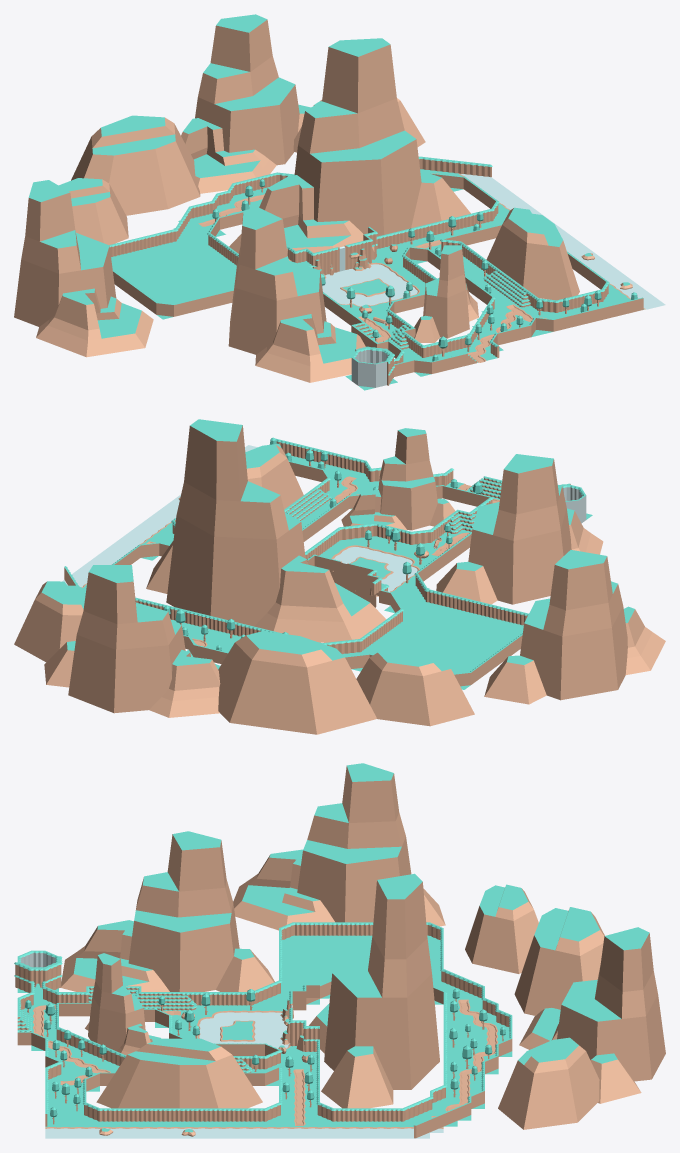
Rendered from area_202501291023.fbx.
3 renders of one model, top to bottom at view 1: azimuth 30°, elevation 25°; view 2: azimuth 150°, elevation 25°; view 3: azimuth 270°, elevation 25°, orthographic. The views are drawn at different scales.
Visible parts, largest first — view 1: cliff_top_rock183; view 2: cliff_top_rock183; view 3: cliff_top_rock183.
Part boxes in pixels (<box>): cliff_top_rock183: <box>14,14,665,390</box>; cliff_top_rock183: <box>14,419,665,734</box>; cliff_top_rock183: <box>14,763,665,1138</box>.
Size of the model in its own units: 451 by 155 by 474.
